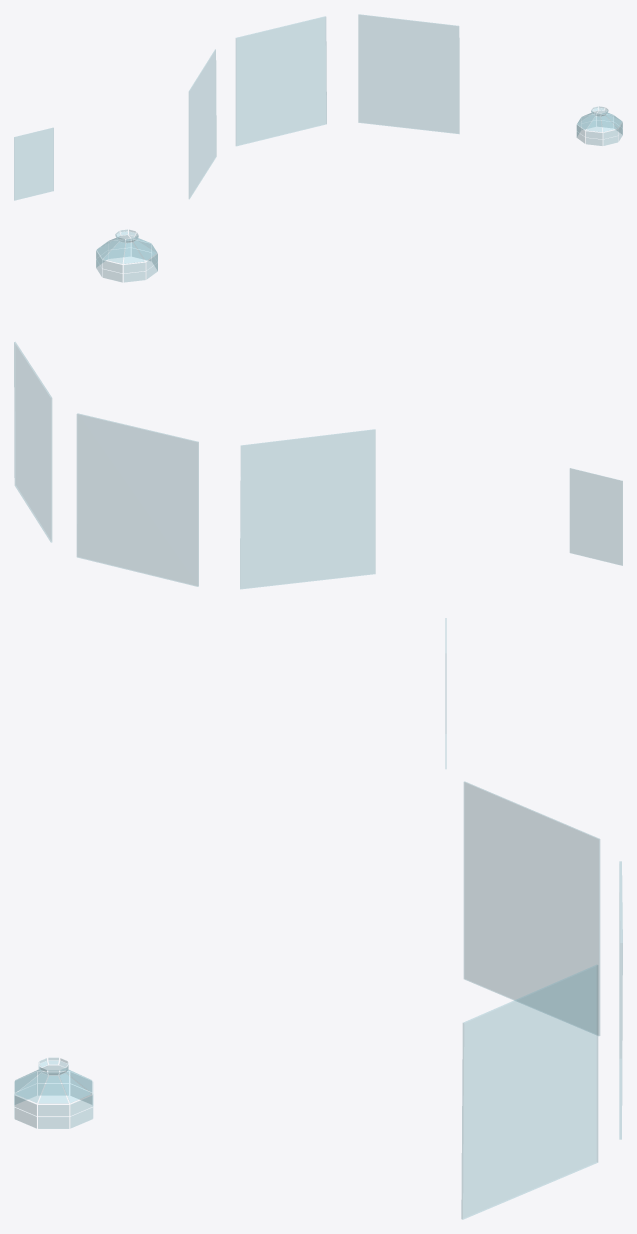
Rendered from kitchen-blueglass.obj.
3 renders of one model, top to bottom at view 1: azimuth 30°, elevation 25°; view 2: azimuth 150°, elevation 25°; view 3: azimuth 270°, elevation 25°, orthographic. The views are drawn at different scales.
Visible parts, largest first — view 1: walls.001_Plane.001, kitchenwindow_Plane.002, Cylinder.005; view 2: walls.001_Plane.001, kitchenwindow_Plane.002, Cylinder.005; view 3: walls.001_Plane.001, Cylinder.005.
Boxes of the visible parts, <box> form: walls.001_Plane.001: <box>189,14,459,198</box>; kitchenwindow_Plane.002: <box>14,128,53,200</box>; Cylinder.005: <box>576,106,622,145</box>; walls.001_Plane.001: <box>14,342,375,589</box>; kitchenwindow_Plane.002: <box>570,468,622,565</box>; Cylinder.005: <box>96,229,157,282</box>; walls.001_Plane.001: <box>461,781,622,1219</box>; Cylinder.005: <box>14,1058,93,1128</box>.
Size of the model in its own units: 18.72 by 3.95 by 10.88.
Materials: 1 (1 with a texture image).
